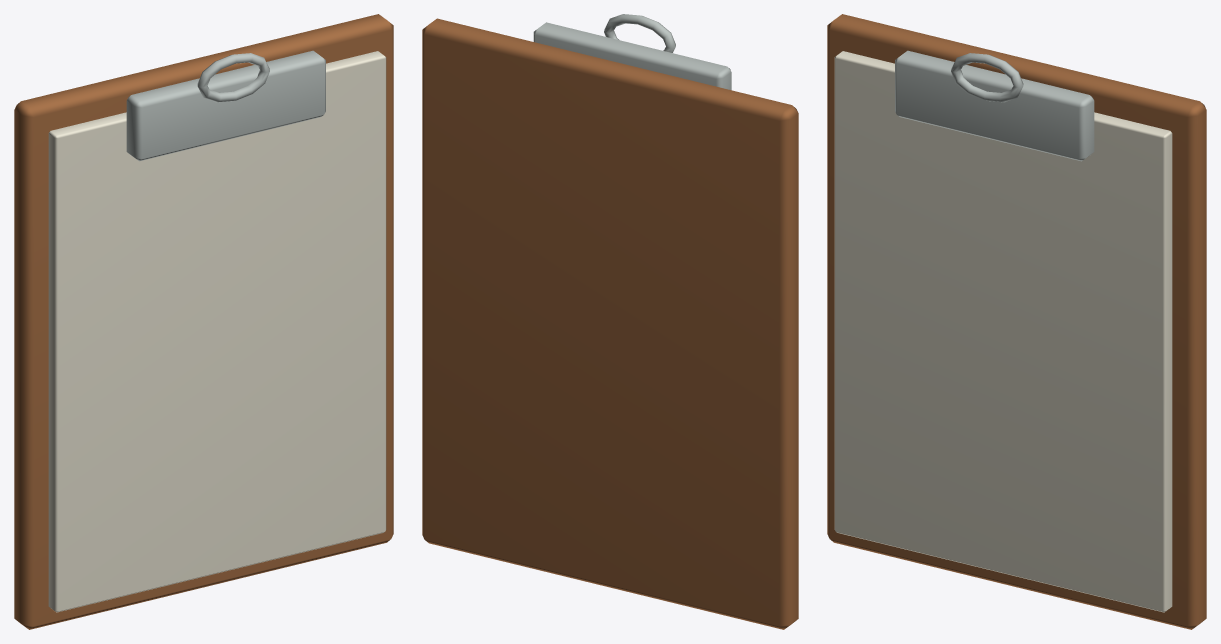
File: P072_clipboard_rebuilt.glb
The picture shows the model from 3 angles, left to right: view 1: azimuth 30°, elevation 25°; view 2: azimuth 150°, elevation 25°; view 3: azimuth 330°, elevation 25°; orthographic projection.
Visible parts, largest first — view 1: white, wood, silver; view 2: wood, silver; view 3: white, wood, silver.
Boxes of the visible parts, box(x1,y1,x2,y2) form: white: box(48, 51, 386, 612); wood: box(14, 14, 393, 629); silver: box(126, 50, 325, 161); wood: box(422, 18, 798, 629); silver: box(533, 14, 731, 90); white: box(834, 51, 1172, 612); wood: box(827, 14, 1206, 629); silver: box(895, 50, 1094, 161).
Bounding box in the file's own units: 0.22 × 0.312 × 0.042.
